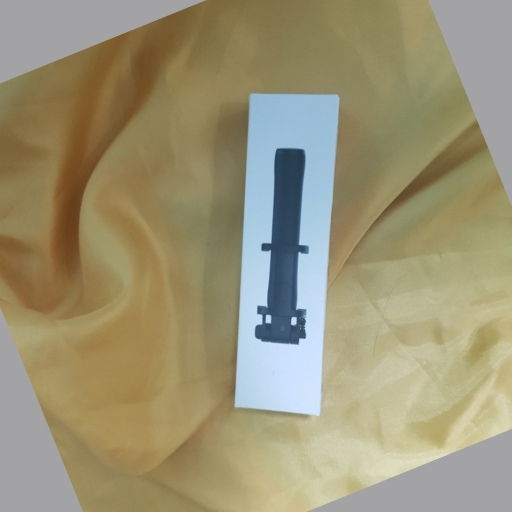Paper_0: (230, 88, 342, 427)
